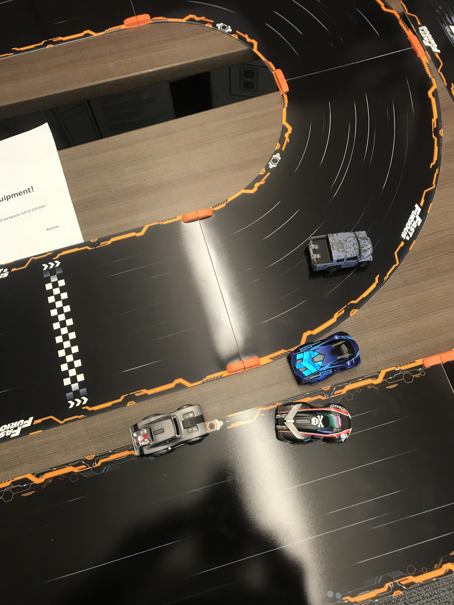Charger: (128, 401, 215, 455)
Finish Line: (39, 257, 90, 410)
MXT: (304, 229, 376, 274)
Shock: (288, 328, 365, 385)
Skull: (272, 401, 352, 447)
